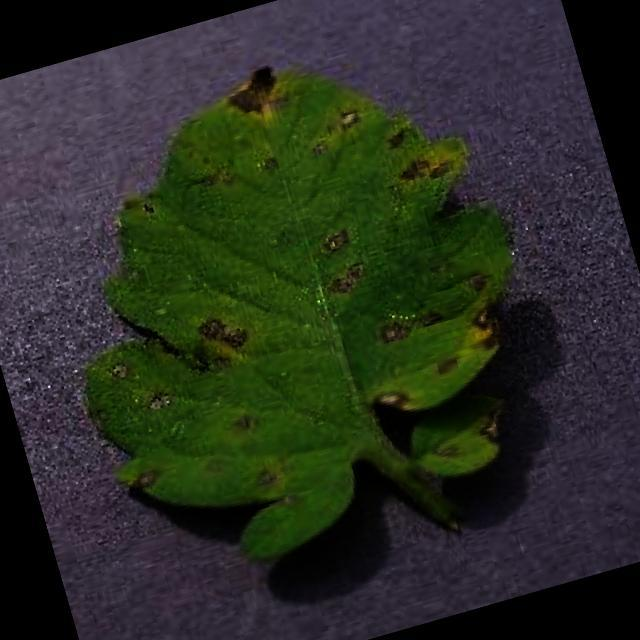Tomato Septoria spot leaf: (14, 9, 578, 594)
